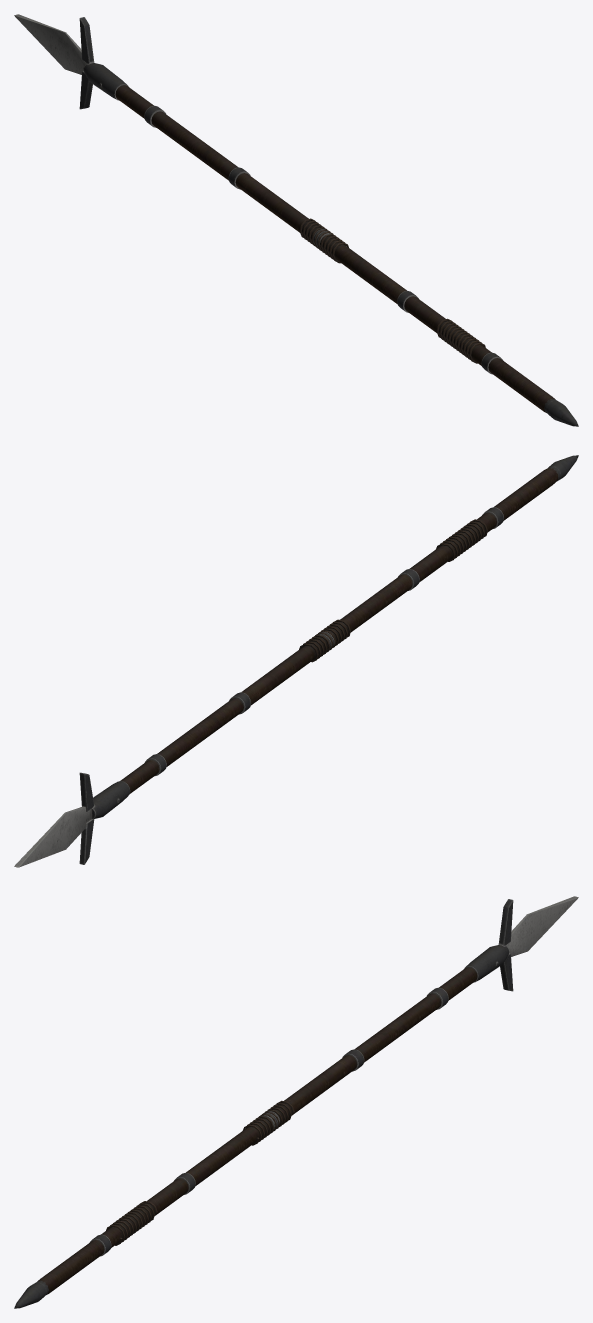
File: meatshield_pike.glb
The picture shows the model from 3 angles, top to bottom: view 1: azimuth 30°, elevation 25°; view 2: azimuth 150°, elevation 25°; view 3: azimuth 330°, elevation 25°; orthographic projection.
Parts seen in each view (by area): view 1: meatshield_pike; view 2: meatshield_pike; view 3: meatshield_pike.
Part boxes in pixels (x1=…): meatshield_pike: x1=14, y1=14, x2=578, y2=426; meatshield_pike: x1=14, y1=455, x2=578, y2=867; meatshield_pike: x1=14, y1=896, x2=578, y2=1308.
Bounding box in the file's own units: 0.0439 × 0.1991 × 2.22.
1 material, 1 textured.
